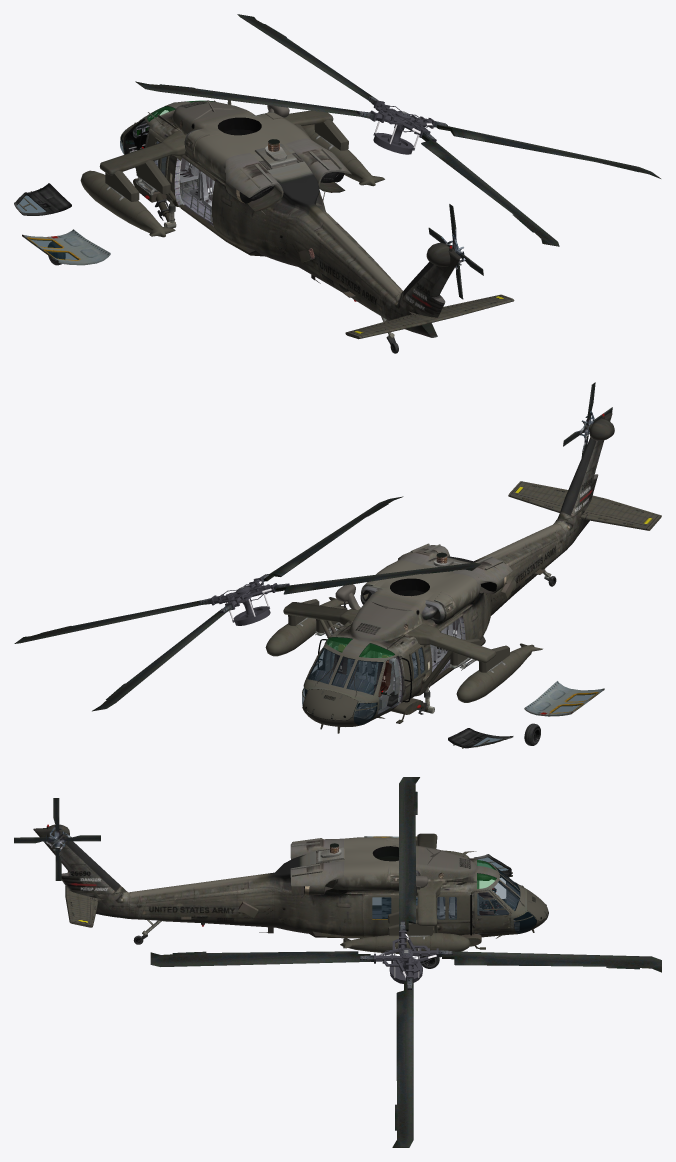
File: BlackHawk.FBX
3 renders of one model, top to bottom at view 1: azimuth 30°, elevation 25°; view 2: azimuth 150°, elevation 25°; view 3: azimuth 270°, elevation 25°, orthographic. The views are drawn at different scales.
Visible parts, largest first — view 1: fuselage, main_rotor, elevator, Door_L, cabinDoor_L, rear_rotor; view 2: fuselage, main_rotor, elevator, Door_L, cabinDoor_L, rear_rotor; view 3: fuselage, main_rotor, cabinDoor_R, Door_R, rear_rotor, elevator.
Boxes of the visible parts, bbox=[...] form: fuselage: bbox=[80, 99, 460, 349]; main_rotor: bbox=[135, 14, 660, 246]; elevator: bbox=[345, 294, 514, 339]; Door_L: bbox=[22, 229, 110, 265]; cabinDoor_L: bbox=[14, 183, 71, 215]; rear_rotor: bbox=[428, 204, 483, 299]; fuselage: bbox=[265, 413, 614, 733]; main_rotor: bbox=[14, 496, 481, 711]; elevator: bbox=[508, 481, 661, 530]; Door_L: bbox=[524, 681, 604, 716]; cabinDoor_L: bbox=[448, 728, 513, 748]; rear_rotor: bbox=[563, 382, 612, 457]; fuselage: bbox=[33, 824, 548, 957]; main_rotor: bbox=[150, 777, 661, 1147]; cabinDoor_R: bbox=[473, 890, 512, 933]; Door_R: bbox=[364, 896, 417, 936]; rear_rotor: bbox=[14, 798, 100, 880]; elevator: bbox=[65, 871, 98, 927].
Size of the model in its own units: 18.06 by 6.35 by 20.19.
